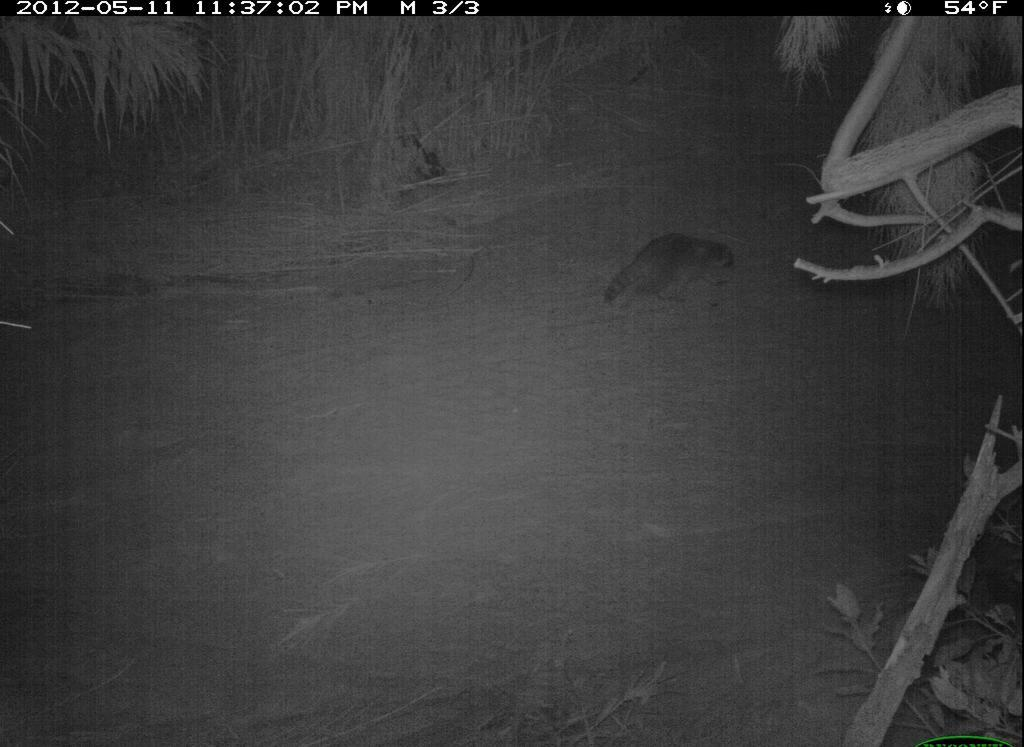raccoon: (591, 225, 743, 318)
